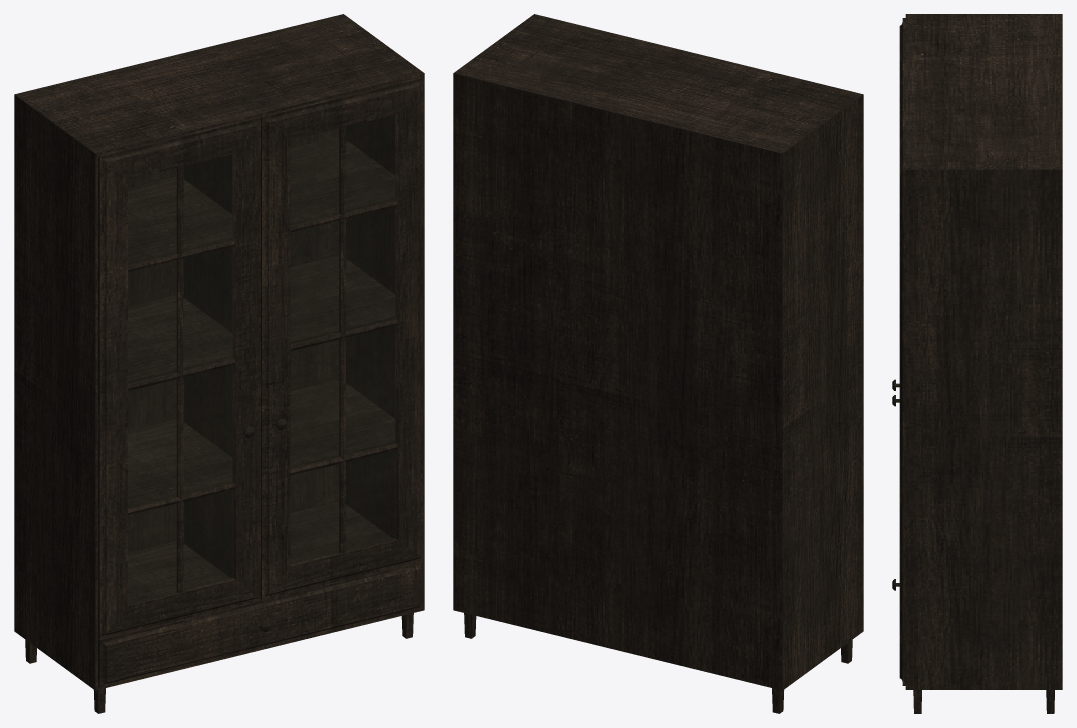
File: wardrobe_mp_2_2.glb
3 renders of one model, left to right at view 1: azimuth 30°, elevation 25°; view 2: azimuth 150°, elevation 25°; view 3: azimuth 270°, elevation 25°, orthographic. The views are drawn at different scales.
Visible parts, largest first — view 1: wardrobe_mp_2_2, wardrobe_mp_2_2_drawer; view 2: wardrobe_mp_2_2; view 3: wardrobe_mp_2_2, wardrobe_mp_2_2_drawer.
Boxes of the visible parts, x1,y1,x2,y2 form: wardrobe_mp_2_2: (14,14,424,713); wardrobe_mp_2_2_drawer: (98,561,423,688); wardrobe_mp_2_2: (453,14,863,713); wardrobe_mp_2_2: (892,14,1062,713); wardrobe_mp_2_2_drawer: (892,579,905,685).
Bounding box in the file's own units: 1.22 × 2 × 0.5645.
2 materials, 2 textured.
